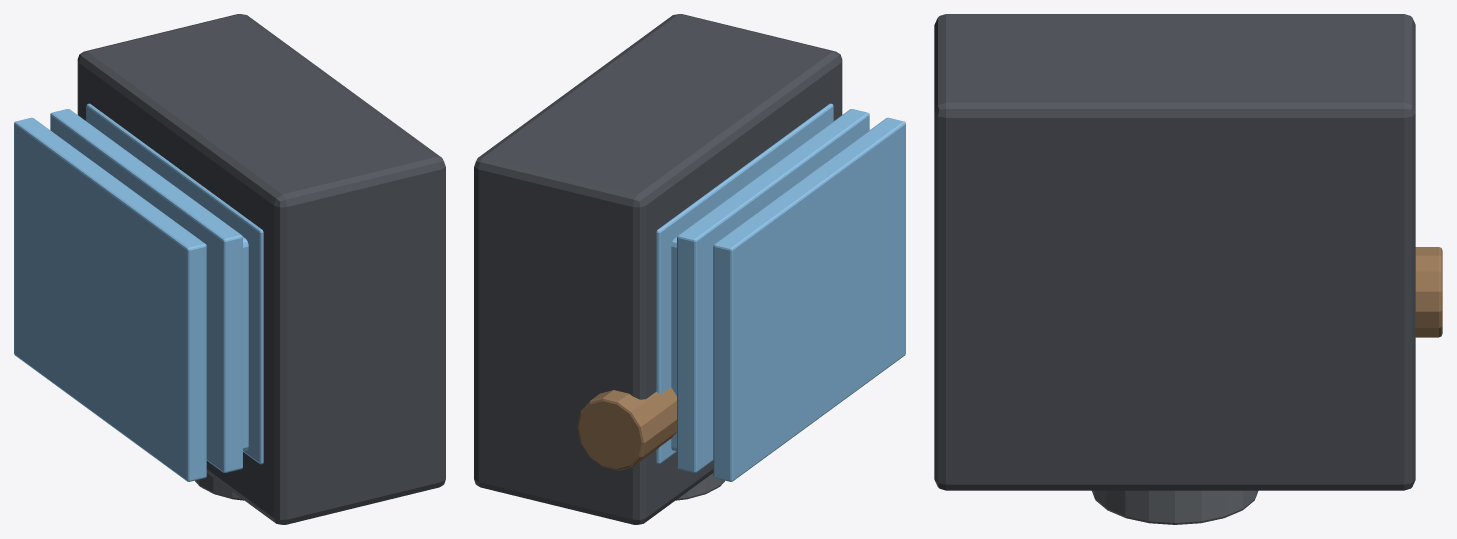
Rendered from module_pack_thermal.fbx.
The picture shows the model from 3 angles, left to right: view 1: azimuth 30°, elevation 25°; view 2: azimuth 150°, elevation 25°; view 3: azimuth 270°, elevation 25°; orthographic projection. The views are drawn at different scales.
Visible parts, largest first — view 1: SM_Module_PackThermal; view 2: SM_Module_PackThermal; view 3: SM_Module_PackThermal.
Part boxes in pixels (x1,y1,x2,y2): SM_Module_PackThermal: [14, 14, 445, 524]; SM_Module_PackThermal: [474, 14, 905, 524]; SM_Module_PackThermal: [934, 14, 1442, 524].
Size of what is drawn, in the model's own units: 37.5 by 53.5 by 57.
